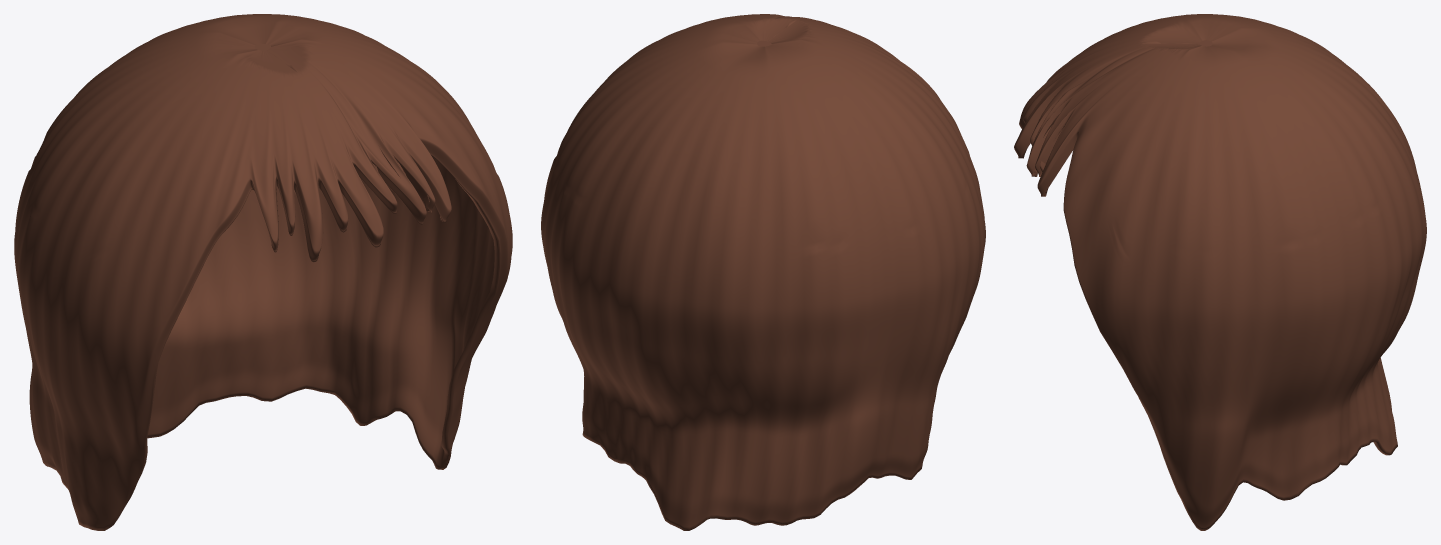
Rendered from side-sweep-cowboy.glb.
3 views of the same model, side by side, from view 1: azimuth 30°, elevation 25°; view 2: azimuth 150°, elevation 25°; view 3: azimuth 270°, elevation 25° (orthographic). The views are drawn at different scales.
Parts seen in each view (by area): view 1: Hair / layered lob; view 2: Hair / layered lob; view 3: Hair / layered lob.
Boxes of the visible parts, x1,y1,x2,y2 form: Hair / layered lob: [14, 14, 512, 530]; Hair / layered lob: [541, 14, 985, 530]; Hair / layered lob: [1014, 14, 1426, 530].
Bounding box in the file's own units: 0.8388 × 0.8737 × 0.782.
